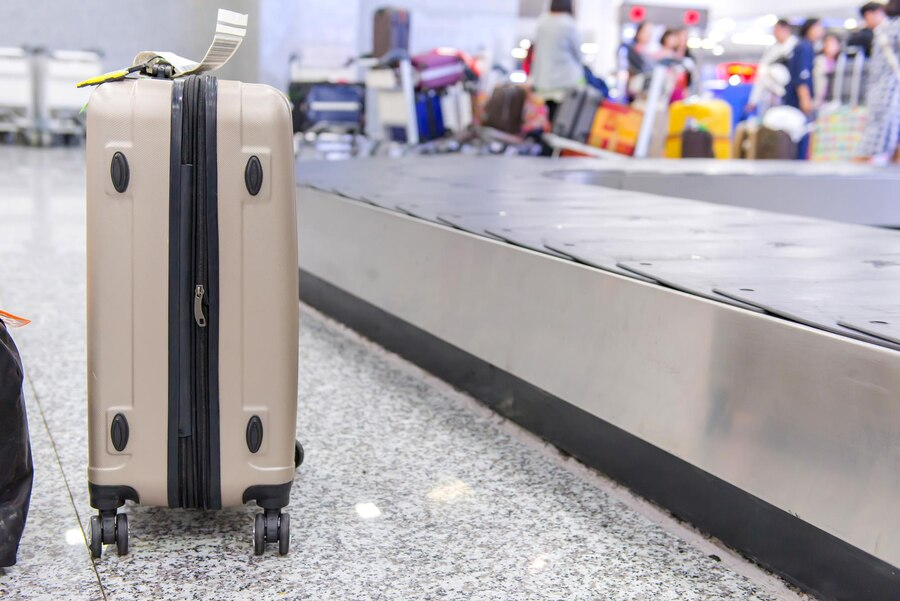baggage: (54, 5, 314, 569)
